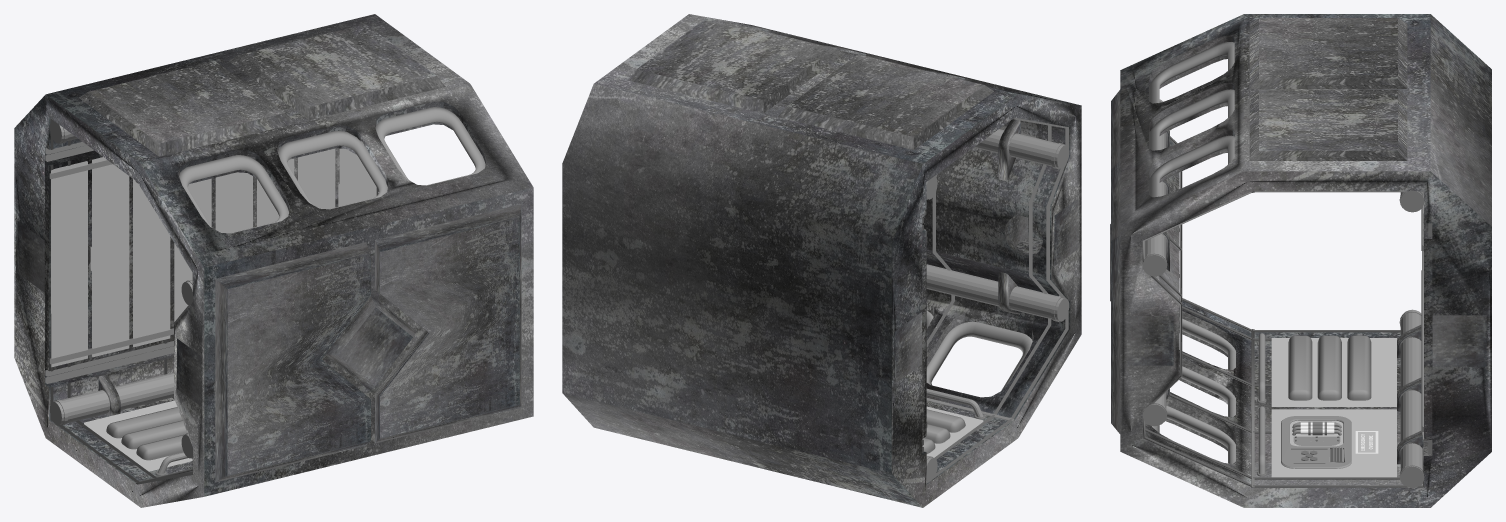
File: Corridor.obj
3 views of the same model, side by side, from view 1: azimuth 30°, elevation 25°; view 2: azimuth 150°, elevation 25°; view 3: azimuth 270°, elevation 25° (orthographic). The views are drawn at different scales.
Visible parts, largest first — view 1: Cylinder226, Box744, Box721, Box720, Box729, Box756, Box757, Box758, Box722, Cylinder259, Rectangle28, Box760 (+16 smaller); view 2: Cylinder226, Box720, Box729, Cylinder250, Rectangle32, Cylinder251, Line260, Box745, Box746, Line259, Line247, Box755 (+1 smaller); view 3: Cylinder226, Box720, Box729, Box732, Box755, Cylinder259, Box730, Box721, Line261, Box731, Rectangle23, ChamferBox46 (+17 smaller).
Boxes of the visible parts, x1=… form: Cylinder226: x1=14, y1=14, x2=533, y2=507; Box744: x1=215, y1=242, x2=370, y2=482; Box721: x1=375, y1=204, x2=521, y2=443; Box720: x1=229, y1=24, x2=445, y2=119; Box729: x1=79, y1=61, x2=294, y2=156; Box756: x1=51, y1=161, x2=87, y2=367; Box757: x1=90, y1=157, x2=129, y2=356; Box758: x1=133, y1=179, x2=170, y2=346; Box722: x1=325, y1=294, x2=416, y2=390; Cylinder259: x1=50, y1=372, x2=173, y2=425; Rectangle28: x1=278, y1=131, x2=387, y2=209; Box760: x1=215, y1=172, x2=252, y2=233; Cylinder226: x1=562, y1=14, x2=1081, y2=507; Box720: x1=627, y1=17, x2=843, y2=113; Box729: x1=778, y1=54, x2=993, y2=149; Cylinder250: x1=926, y1=264, x2=1069, y2=321; Rectangle32: x1=926, y1=321, x2=1032, y2=390; Cylinder251: x1=974, y1=129, x2=1069, y2=168; Line260: x1=924, y1=117, x2=1068, y2=483; Box745: x1=894, y1=312, x2=921, y2=383; Box746: x1=1054, y1=198, x2=1078, y2=265; Line259: x1=934, y1=125, x2=1051, y2=459; Line247: x1=998, y1=119, x2=1020, y2=180; Box755: x1=926, y1=406, x2=983, y2=457; Cylinder226: x1=1120, y1=14, x2=1491, y2=507; Box720: x1=1249, y1=89, x2=1407, y2=160; Box729: x1=1249, y1=18, x2=1407, y2=88; Box732: x1=1271, y1=409, x2=1396, y2=477; Box755: x1=1271, y1=338, x2=1396, y2=406; Cylinder259: x1=1400, y1=309, x2=1424, y2=487; Box730: x1=1432, y1=315, x2=1486, y2=366; Box721: x1=1111, y1=166, x2=1120, y2=433; Line261: x1=1142, y1=191, x2=1423, y2=487; Box731: x1=1126, y1=316, x2=1173, y2=365; Rectangle23: x1=1281, y1=416, x2=1351, y2=468; ChamferBox46: x1=1317, y1=335, x2=1341, y2=400.
Size of the model in its own units: 39.14 by 40.82 by 40.15.
